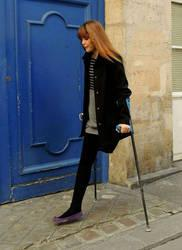crutches: (52, 20, 151, 232)
